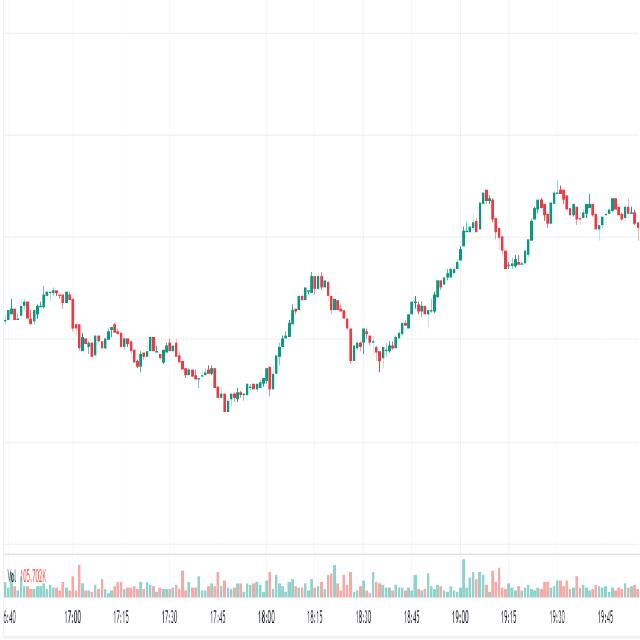Rounding-Bottom: (481, 142, 541, 289)
Rounding-Top: (262, 267, 362, 403)
